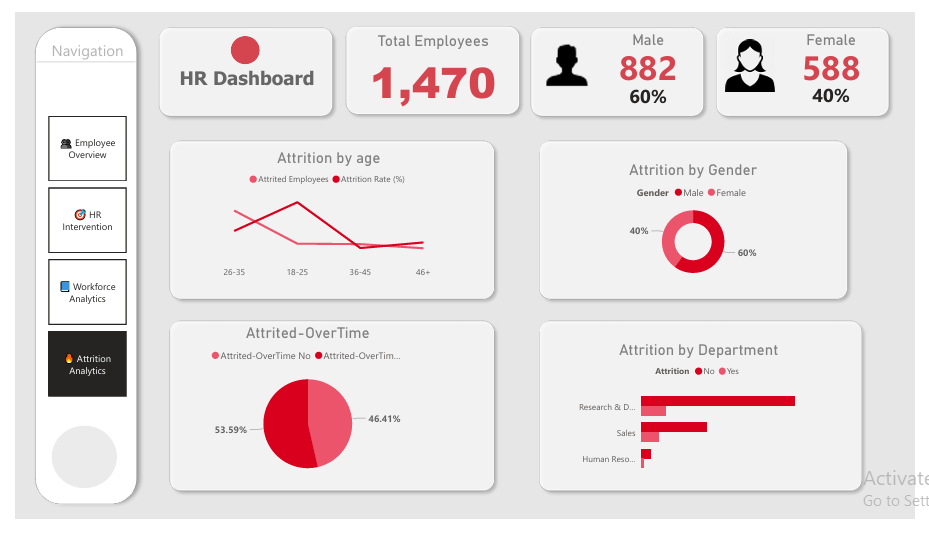

What the dashboard file says about the page in this screenshot:
{"tool":"powerbi","page":{"name":"🔥 Attrition Analytics","canvas":[1280,720],"ordinal":3},"visuals":[{"type":"shape","box":[16.5,9.6,166.5,699.2],"z":0},{"type":"shape","box":[195.4,12.4,264.3,143.1],"z":1000},{"type":"shape","box":[461.4,10,264.3,142.9],"z":2000},{"type":"shape","box":[724,12.4,264.3,143.1],"z":3000},{"type":"shape","box":[988.2,12.4,264.3,143.1],"z":4000},{"type":"shape","box":[210,428.6,480,260],"z":5000},{"type":"textbox","box":[209.7,71.2,238.7,51.4],"z":6000},{"type":"textbox","box":[36.9,33,130.5,51.4],"z":7000},{"type":"shape","box":[305.9,33,40.9,39.6],"z":8000},{"type":"card","title":"Total Employees","fields":{"Values":["All Measures.Total Emp"]},"box":[471.4,27.1,245.7,112.9],"z":9000},{"type":"card","title":"Male","fields":{"Values":["All Measures.Male"]},"box":[814.8,26.2,170.7,75.7],"z":10000},{"type":"card","fields":{"Values":["All Measures.Male %"]},"box":[834.1,90.8,132.1,55.1],"z":11000},{"type":"card","title":"Female","fields":{"Values":["All Measures.Female"]},"box":[1068.7,26.2,183.1,75.7],"z":12000},{"type":"card","fields":{"Values":["All Measures.Female %"]},"box":[1083.9,90.8,152.8,53.7],"z":13000},{"type":"image","box":[736.3,26.2,95,90.8],"z":14000},{"type":"image","box":[1004.7,33,79.8,84],"z":15000},{"type":"shape","box":[51.4,586.8,92.3,89.7],"z":16000},{"type":"shape","box":[30.2,61.6,140.1,15.7],"z":17000},{"type":"pieChart","title":"Attrited-OverTime ","fields":{"Y":["All Measures.Attrited-OverTime No","All Measures.Attrited-OverTime Yes"]},"box":[270,442.9,291.4,230],"z":18000},{"type":"shape","box":[735.7,172.9,457.1,242.9],"z":19000},{"type":"donutChart","title":"Attrition by Gender","fields":{"Category":["HR Analytics Data.Gender"],"Y":["CountNonNull(HR Analytics Data.Attrition)"]},"box":[784.3,211.4,360,175.7],"z":20000},{"type":"shape","box":[735.7,428.6,477.1,260],"z":21000},{"type":"clusteredBarChart","title":"Attrition by Department","fields":{"Category":["HR Analytics Data.Department"],"Y":["All Measures.Total Emp"],"Series":["HR Analytics Data.Attrition"]},"box":[784.3,465.7,375.7,204.3],"z":22000},{"type":"shape","box":[210,172.9,480,242.9],"z":23000},{"type":"lineChart","title":"Attrition by age ","fields":{"Y":["All Measures.Total Attrited Employees"],"Y2":["All Measures.Attrition Rate (%)"],"Category":["HR Analytics Data.Age Bin"]},"box":[270,192.9,351.4,194.3],"z":24000},{"type":"pageNavigator","box":[47.1,147.1,110,400],"z":25000}]}

Visuals, with their boxes on the page's 1280x720 design canvas (x1, y1, x2, y2). These are canvas units, not pixel positions in the 929x535 screenshot, which may show the page scaled, cropped or inside an application window:
shape: bbox=(16, 10, 183, 709)
shape: bbox=(195, 12, 460, 156)
shape: bbox=(461, 10, 726, 153)
shape: bbox=(724, 12, 988, 156)
shape: bbox=(988, 12, 1252, 156)
shape: bbox=(210, 429, 690, 689)
textbox: bbox=(210, 71, 448, 123)
textbox: bbox=(37, 33, 167, 84)
shape: bbox=(306, 33, 347, 73)
"Total Employees" card: bbox=(471, 27, 717, 140)
"Male" card: bbox=(815, 26, 986, 102)
card - All Measures.Male %: bbox=(834, 91, 966, 146)
"Female" card: bbox=(1069, 26, 1252, 102)
card - All Measures.Female %: bbox=(1084, 91, 1237, 144)
image: bbox=(736, 26, 831, 117)
image: bbox=(1005, 33, 1084, 117)
shape: bbox=(51, 587, 144, 676)
shape: bbox=(30, 62, 170, 77)
"Attrited-OverTime " pieChart: bbox=(270, 443, 561, 673)
shape: bbox=(736, 173, 1193, 416)
"Attrition by Gender" donutChart: bbox=(784, 211, 1144, 387)
shape: bbox=(736, 429, 1213, 689)
"Attrition by Department" clusteredBarChart: bbox=(784, 466, 1160, 670)
shape: bbox=(210, 173, 690, 416)
"Attrition by age " lineChart: bbox=(270, 193, 621, 387)
pageNavigator: bbox=(47, 147, 157, 547)
